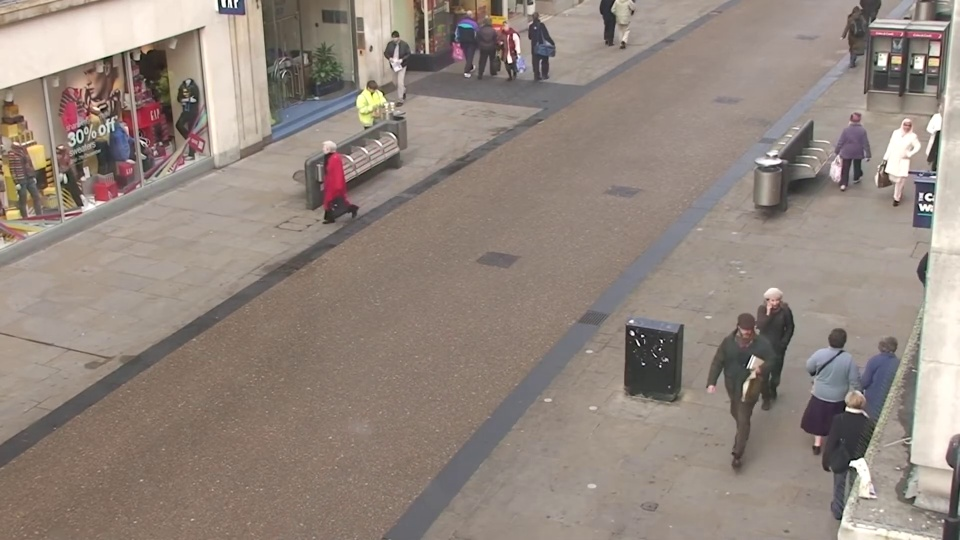pedestrian: (817, 370, 879, 537), (860, 320, 921, 472), (811, 315, 867, 464), (716, 318, 768, 467), (746, 288, 797, 430), (879, 115, 923, 214), (837, 104, 877, 198), (304, 136, 341, 237), (358, 77, 389, 161), (838, 3, 870, 73), (380, 28, 406, 99), (493, 20, 517, 89), (480, 14, 504, 81), (459, 5, 483, 70), (529, 10, 552, 77)
